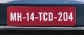0: (62, 11, 68, 22)
1: (25, 12, 30, 21)
2: (57, 11, 63, 22)
4: (68, 12, 74, 22), (30, 11, 35, 22)
C: (43, 11, 48, 22)
D: (48, 11, 54, 21)
H: (17, 12, 22, 22)
M: (9, 12, 17, 22)
T: (38, 11, 43, 22)
